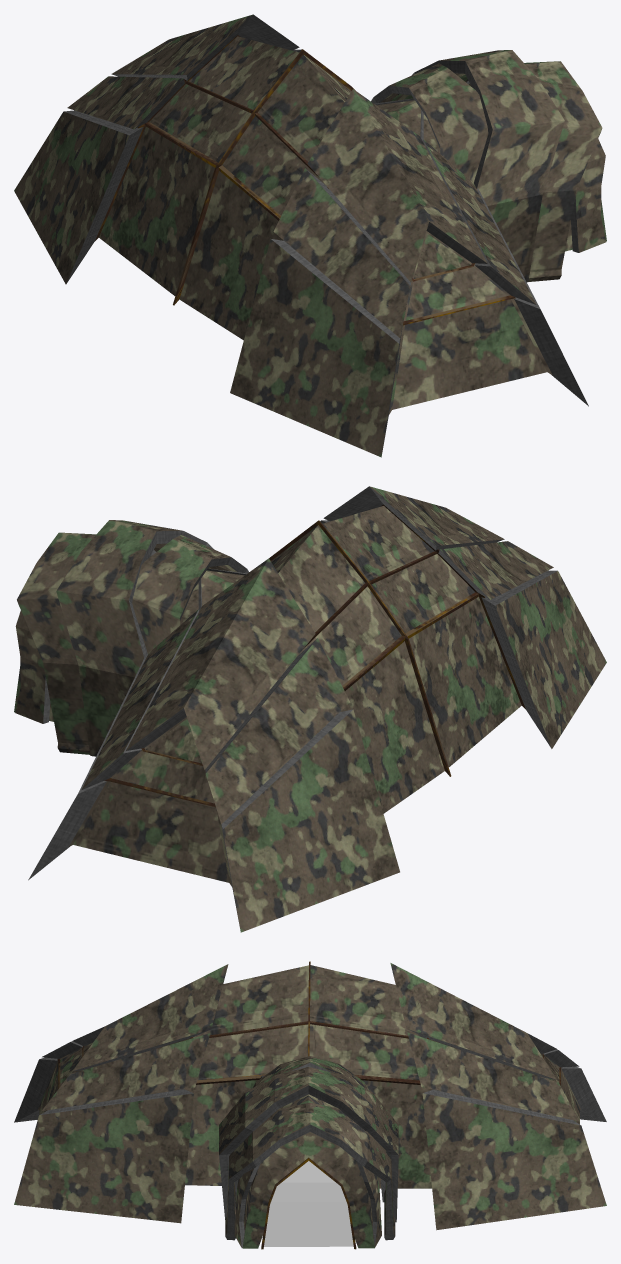
Rendered from Barracas.fbx.
3 renders of one model, top to bottom at view 1: azimuth 30°, elevation 25°; view 2: azimuth 150°, elevation 25°; view 3: azimuth 270°, elevation 25°, orthographic. The views are drawn at different scales.
Parts seen in each view (by area): view 1: LOD_0; view 2: LOD_0; view 3: LOD_0.
Boxes of the visible parts, x1=… form: LOD_0: x1=14, y1=14, x2=606, y2=457; LOD_0: x1=14, y1=486, x2=606, y2=932; LOD_0: x1=14, y1=961, x2=606, y2=1249.
Size of what is drawn, in the model's own units: 770 by 440 by 1150.
